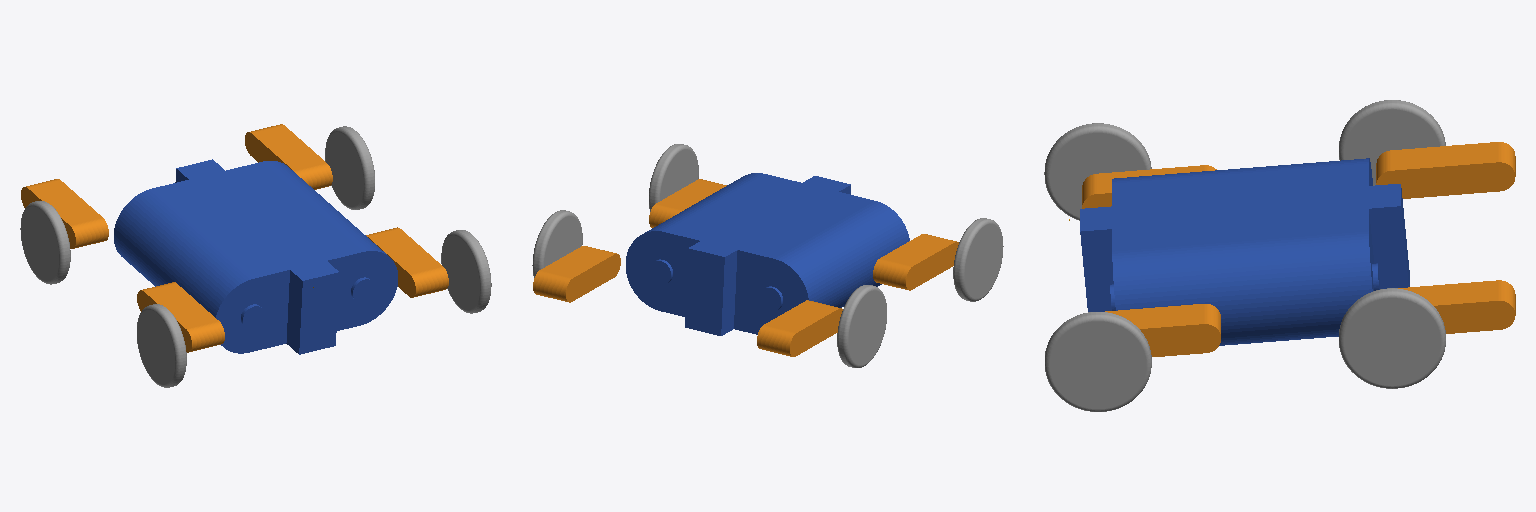
--- Facts derived from the render (not from the file) ---
The picture shows the robot from 3 angles, left to right: view 1: azimuth 30°, elevation 25°; view 2: azimuth 150°, elevation 25°; view 3: azimuth 270°, elevation 25°; orthographic projection.
Robot: wheely — 18 links, 17 joints (16 revolute, 1 fixed); root link base; default pose: every joint at zero.
Links seen in each view (by area): view 1: trunk, wheel_sim, wheel_sim_4, wheel_sim_2, wheel_sim_3, leg_upper_sim_3, leg_upper_sim_2, leg_upper_sim_4, leg_upper_sim; view 2: trunk, leg_upper_sim_3, wheel_sim, wheel_sim_4, leg_upper_sim, leg_upper_sim_4, wheel_sim_3, wheel_sim_2, leg_upper_sim_2; view 3: trunk, wheel_sim_3, wheel_sim_2, leg_upper_sim_4, wheel_sim, wheel_sim_4, leg_upper_sim_3, leg_upper_sim_2, leg_upper_sim.
Boxes of the visible links, x1=… form: trunk: x1=114, y1=159, x2=397, y2=354; wheel_sim: x1=137, y1=304, x2=186, y2=387; wheel_sim_4: x1=20, y1=201, x2=70, y2=284; wheel_sim_2: x1=441, y1=230, x2=491, y2=313; wheel_sim_3: x1=325, y1=126, x2=374, y2=209; leg_upper_sim_3: x1=245, y1=124, x2=332, y2=189; leg_upper_sim_2: x1=366, y1=227, x2=448, y2=297; leg_upper_sim_4: x1=21, y1=179, x2=108, y2=248; leg_upper_sim: x1=137, y1=282, x2=224, y2=352; trunk: x1=626, y1=173, x2=909, y2=335; leg_upper_sim_3: x1=533, y1=246, x2=620, y2=302; wheel_sim: x1=953, y1=218, x2=1003, y2=301; wheel_sim_4: x1=837, y1=285, x2=886, y2=367; leg_upper_sim: x1=873, y1=234, x2=958, y2=290; leg_upper_sim_4: x1=757, y1=300, x2=842, y2=356; wheel_sim_3: x1=532, y1=210, x2=582, y2=277; wheel_sim_2: x1=649, y1=144, x2=698, y2=211; leg_upper_sim_2: x1=649, y1=179, x2=726, y2=227; trunk: x1=1080, y1=158, x2=1409, y2=345; wheel_sim_3: x1=1339, y1=288, x2=1445, y2=388; wheel_sim_2: x1=1045, y1=312, x2=1151, y2=411; leg_upper_sim_4: x1=1376, y1=142, x2=1515, y2=198; wheel_sim: x1=1044, y1=123, x2=1151, y2=220; wheel_sim_4: x1=1339, y1=100, x2=1445, y2=185; leg_upper_sim_3: x1=1398, y1=280, x2=1515, y2=333; leg_upper_sim_2: x1=1105, y1=304, x2=1220, y2=356; leg_upper_sim: x1=1082, y1=165, x2=1216, y2=208.
Bounding box of the posed robot: 0.43 × 0.4386 × 0.1258 m (x, y, z).
Meshes: 5 distinct files referenced, 9 mesh visuals loaded (3 binary STL); not drawn: 8 (reference not matched to a file when rendering).

robot.urdf — wheely:
<?xml version="1.0" encoding="utf-8"?>
<robot name="wheely">
    <link name="base">
        <visual>
            <origin rpy="0 0 0" xyz="0 0 0" />
            <geometry>
                <box size="0.001 0.001 0.001" />
            </geometry>
        </visual>
    </link>
    <joint name="floating_base" type="fixed">
        <origin rpy="0 0 0" xyz="0 0 0" />
        <parent link="base" />
        <child link="trunk" />
    </joint>
    <link name="trunk">
        <visual>
            <origin xyz="0.015585846069522939911 0.16761721714529645433 -0.07967009481110459701"
                rpy="0.087266479572840227608 1.1592872166690008089e-09 -1.3250729495637539251e-08" />
            <geometry>
                <mesh filename="../meshes/V2.6/main_body_sim.stl" />
            </geometry>
            <material name="main_body_sim_material">
                <color rgba="0.2313725490196078538 0.38039215686274507888 0.7058823529411765163 1.0" />
            </material>
        </visual>
        <collision>
            <origin xyz="0.015585846069522939911 0.16761721714529645433 -0.07967009481110459701"
                rpy="0.087266479572840227608 1.1592872166690008089e-09 -1.3250729495637539251e-08" />
            <geometry>
                <mesh filename="../meshes/V2.6/main_body_sim.stl" />
            </geometry>
        </collision>
        <inertial>
            <origin xyz="0.015585846069522813276 0.16325942916248678549 -0.029860359980482562708"
                rpy="0 0 0" />
            <mass value="1.0520000000000002682" />
            <inertia ixx="0.0066139164607848287616" ixy="-1.7682651499246315317e-11"
                ixz="-1.5470365969232099219e-12" iyy="0.0053174843064010216681"
                iyz="-0.00043473230710836267745" izz="0.010248462186988568576" />
        </inertial>
    </link>

    <link name="hip_joint_sim">
        <visual>
            <origin xyz="0.032215611636638642745 0.028555101990604007944 -6.9388939039072283776e-18"
                rpy="1.570796326794896558 2.3580553164154395304e-26 -1.0052549661969301431e-25" />
            <geometry>
                <mesh filename="../meshes/V2.6/hip_joint_sim.stl" />
            </geometry>
            <material name="hip_joint_sim_material">
                <color
                    rgba="0.86666666666666669627 0.32156862745098041545 0.15686274509803921351 1.0" />
            </material>
        </visual>
        <collision>
            <origin xyz="0.032215611636638642745 0.028555101990604007944 -6.9388939039072283776e-18"
                rpy="1.570796326794896558 2.3580553164154395304e-26 -1.0052549661969301431e-25" />
            <geometry>
                <mesh filename="../meshes/V2.6/hip_joint_sim.stl" />
            </geometry>
        </collision>
        <inertial>
            <origin xyz="0.021525592503996222871 3.4694469519536141888e-18 -0.012500000000000009368"
                rpy="0 0 0" />
            <mass value="0.00899999999999999932" />
            <inertia ixx="1.1139804559497151344e-06" ixy="5.8086754015875530345e-31"
                ixz="2.6905705925099447311e-30" iyy="3.861958513835964132e-06"
                iyz="2.8514866875938409084e-23" izz="4.0384389697856785015e-06" />
        </inertial>
    </link>

    <link name="leg_upper_sim">
        <visual>
            <origin xyz="0 0 -0.045000000000000012212"
                rpy="-1.570796326794896558 -1.570796326794896558 0" />
            <geometry>
                <mesh filename="../meshes/V2.6/leg_upper_sim.stl" />
            </geometry>
            <material name="leg_upper_sim_material">
                <color
                    rgba="0.90980392156862743835 0.57254901960784310155 0.16470588235294117418 1.0" />
            </material>
        </visual>
        <collision>
            <origin xyz="0 0 -0.045000000000000012212"
                rpy="-1.570796326794896558 -1.570796326794896558 0" />
            <geometry>
                <mesh filename="../meshes/V2.6/leg_upper_sim.stl" />
            </geometry>
        </collision>
        <inertial>
            <origin
                xyz="6.4367397496827832073e-18 -0.049999999999999981959 -0.022500000000000006106"
                rpy="0 0 0" />
            <mass value="0.37599999999999994538" />
            <inertia ixx="0.00054596018323756516019" ixy="-3.6736756668987036021e-21"
                ixz="-9.895140610489742317e-30" iyy="9.0305640199817024754e-05"
                iyz="-1.3919049736874224704e-28" izz="0.00050936582343738242076" />
        </inertial>
    </link>

    <link name="leg_lower_sim">
        <visual>
            <origin xyz="0 0 -0.024999999999999994449"
                rpy="-1.570796326794896558 -1.570796326794896558 0" />
            <geometry>
                <mesh filename="../meshes/V2.6/leg_lower_sim.stl" />
            </geometry>
            <material name="leg_lower_sim_material">
                <color rgba="1 0.7568627450980391913 0.054901960784313724728 1.0" />
            </material>
        </visual>
        <collision>
            <origin xyz="0 0 -0.024999999999999994449"
                rpy="-1.570796326794896558 -1.570796326794896558 0" />
            <geometry>
                <mesh filename="../meshes/V2.6/leg_lower_sim.stl" />
            </geometry>
        </collision>
        <inertial>
            <origin
                xyz="5.9848756682538206176e-18 -0.061136909622975937895 -0.012499999999999993755"
                rpy="0 0 0" />
            <mass value="0.058000000000000002942" />
            <inertia ixx="9.3657217382847509626e-05" ixy="-2.3857696540800339933e-22"
                ixz="1.7136927500804865691e-29" iyy="9.3296789238021381879e-06"
                iyz="-1.3665651456574403711e-28" izz="9.6945229639982987888e-05" />
        </inertial>
    </link>

    <link name="wheel_sim">
        <visual>
            <origin xyz="-0.087087206542491912842 -0.027046862989664081228 -0.014999999999999985567"
                rpy="-1.570796326794896558 -1.570796326794896558 0" />
            <geometry>
                <mesh filename="../meshes/V2.6/wheel_sim.stl" />
            </geometry>
            <material name="wheel_sim_material">
                <color
                    rgba="0.64705882352941179736 0.64705882352941179736 0.64705882352941179736 1.0" />
            </material>
        </visual>
        <collision>
            <origin xyz="-0.087087206542491912842 -0.027046862989664081228 -0.014999999999999985567"
                rpy="-1.570796326794896558 -1.570796326794896558 0" />
            <geometry>
                <mesh filename="../meshes/V2.6/wheel_sim.stl" />
            </geometry>
        </collision>
        <inertial>
            <origin
                xyz="4.810479871505592532e-20 -6.9388939039072283776e-18 -0.007499999999999986712"
                rpy="0 0 0" />
            <mass value="0.036999999999999998168" />
            <inertia ixx="2.3186407739588025368e-05" ixy="-4.9807254351802205666e-22"
                ixz="1.3053572872479977881e-30" iyy="2.3186407739588028756e-05"
                iyz="4.6132351399898749104e-29" izz="4.5033754578493196004e-05" />
        </inertial>
    </link>

    <joint name="FRW joint" type="revolute">
        <origin xyz="1.3877787807814456755e-17 -0.10000000000000000555 -0.024999999999999994449"
            rpy="8.9722478517019562056e-17 5.550869771051672925e-16 -8.6243853566089590395e-14" />
        <parent link="leg_lower_sim" />
        <child link="wheel_sim" />
        <axis xyz="0 0 1" />
        <limit effort="3.43" velocity="1.5707" />
        <joint_properties friction="0.0" />
    </joint>

    <joint name="FRK joint" type="revolute">
        <origin xyz="1.3877787807814456755e-17 -0.099999999999999977796 -0.045000000000000039968"
            rpy="-2.995620619665353311e-16 -2.0409029304008913286e-16 -3.141592653589793116" />
        <parent link="leg_upper_sim" />
        <child link="leg_lower_sim" />
        <axis xyz="0 0 1" />
        <limit effort="6.864655" velocity="8.055365759832842" lower="0" upper="3.141592653589793116" />
        <joint_properties friction="0.0" />
    </joint>

    <joint name="FRHL joint" type="revolute">
        <origin xyz="0.0549999999999999864 6.9388939039072283776e-18 -0.012500000000000004163"
            rpy="-1.570796326794896558 -1.697312512551477413e-08 1.570796326794896336" />
        <parent link="hip_joint_sim" />
        <child link="leg_upper_sim" />
        <axis xyz="0 0 1" />
        <limit effort="6.864655" velocity="8.055365759832842" lower="-3.141592653589793116" upper="0" />
        <joint_properties friction="0.0" />
    </joint>

    <joint name="FRHU joint" type="revolute">
        <origin xyz="-0.059414155593145313861 0.038735093079736430954 -0.04075482985056028129"
            rpy="1.4835298472220554977 -1.1592875220980075015e-09 3.1415926403390637134" />
        <parent link="trunk" />
        <child link="hip_joint_sim" />
        <axis xyz="0 0 1" />
        <limit effort="6.864655" velocity="8.055365759832842" lower="-0.75" upper="0.75" />
        <joint_properties friction="0.0" />
    </joint>

    <link name="hip_joint_sim_2">
        <visual>
            <origin xyz="0.032215611636638621929 0.028555101990604007944 0"
                rpy="1.570796326794896558 -1.484709704491313476e-25 5.3370996820186301382e-26" />
            <geometry>
                <mesh filename="../meshes/V2.6/hip_joint_sim.stl" />
            </geometry>
            <material name="hip_joint_sim_material">
                <color
                    rgba="0.86666666666666669627 0.32156862745098041545 0.15686274509803921351 1.0" />
            </material>
        </visual>
        <collision>
            <origin xyz="0.032215611636638621929 0.028555101990604007944 0"
                rpy="1.570796326794896558 -1.484709704491313476e-25 5.3370996820186301382e-26" />
            <geometry>
                <mesh filename="../meshes/V2.6/hip_joint_sim.stl" />
            </geometry>
        </collision>
        <inertial>
            <origin xyz="0.021525592503996202054 3.4694469519536141888e-18 -0.012500000000000002429"
                rpy="0 0 0" />
            <mass value="0.00899999999999999932" />
            <inertia ixx="1.1139804559497151344e-06" ixy="5.4133580507221509624e-31"
                ixz="-7.9473900997021163377e-30" iyy="3.861958513835964132e-06"
                iyz="-1.2202827403417080041e-22" izz="4.0384389697856785015e-06" />
        </inertial>
    </link>

    <link name="leg_upper_sim_2">
        <visual>
            <origin
                xyz="-6.9388939039072283776e-18 -3.4694469519536141888e-18 2.7755575615628913511e-17"
                rpy="1.570796326794896558 1.570796326794896558 0" />
            <geometry>
                <mesh filename="../meshes/V2.6/leg_upper_sim.stl" />
            </geometry>
            <material name="leg_upper_sim_material">
                <color
                    rgba="0.90980392156862743835 0.57254901960784310155 0.16470588235294117418 1.0" />
            </material>
        </visual>
        <collision>
            <origin
                xyz="-6.9388939039072283776e-18 -3.4694469519536141888e-18 2.7755575615628913511e-17"
                rpy="1.570796326794896558 1.570796326794896558 0" />
            <geometry>
                <mesh filename="../meshes/V2.6/leg_upper_sim.stl" />
            </geometry>
        </collision>
        <inertial>
            <origin
                xyz="-1.9401965933927449679e-18 0.049999999999999988898 -0.022499999999999978351"
                rpy="0 0 0" />
            <mass value="0.37599999999999994538" />
            <inertia ixx="0.00054596018323756537703" ixy="6.7350947315973346165e-21"
                ixz="-6.7906181757271827491e-29" iyy="9.0305640199817051859e-05"
                iyz="8.072925128848165996e-29" izz="0.00050936582343738242076" />
        </inertial>
    </link>

    <link name="leg_lower_sim_2">
        <visual>
            <origin xyz="-6.9388939039072283776e-18 0 0"
                rpy="1.570796326794896558 1.570796326794896558 0" />
            <geometry>
                <mesh filename="../meshes/V2.6/leg_lower_sim.stl" />
            </geometry>
            <material name="leg_lower_sim_material">
                <color rgba="1 0.7568627450980391913 0.054901960784313724728 1.0" />
            </material>
        </visual>
        <collision>
            <origin xyz="-6.9388939039072283776e-18 0 0"
                rpy="1.570796326794896558 1.570796326794896558 0" />
            <geometry>
                <mesh filename="../meshes/V2.6/leg_lower_sim.stl" />
            </geometry>
        </collision>
        <inertial>
            <origin
                xyz="-1.7803056235582124656e-18 0.061136909622975944834 -0.012500000000000002429"
                rpy="0 0 0" />
            <mass value="0.058000000000000002942" />
            <inertia ixx="9.3657217382847482521e-05" ixy="4.4236941077579196848e-22"
                ixz="2.2380568678833325027e-29" iyy="9.3296789238021415761e-06"
                iyz="-1.9072833451762093138e-29" izz="9.6945229639982987888e-05" />
        </inertial>
    </link>

    <link name="wheel_sim_2">
        <visual>
            <origin xyz="-0.08708720654249192672 0.027046862989664098575 0"
                rpy="1.570796326794896558 1.570796326794896558 0" />
            <geometry>
                <mesh filename="../meshes/V2.6/wheel_sim.stl" />
            </geometry>
            <material name="wheel_sim_material">
                <color
                    rgba="0.64705882352941179736 0.64705882352941179736 0.64705882352941179736 1.0" />
            </material>
        </visual>
        <collision>
            <origin xyz="-0.08708720654249192672 0.027046862989664098575 0"
                rpy="1.570796326794896558 1.570796326794896558 0" />
            <geometry>
                <mesh filename="../meshes/V2.6/wheel_sim.stl" />
            </geometry>
        </collision>
        <inertial>
            <origin
                xyz="-1.0689147558701540743e-17 1.3877787807814456755e-17 -0.0074999999999999997224"
                rpy="0 0 0" />
            <mass value="0.036999999999999998168" />
            <inertia ixx="2.3186407739588025368e-05" ixy="-2.7208900002988070909e-21"
                ixz="1.3289645786860947498e-28" iyy="2.3186407739588042309e-05"
                iyz="-2.0013011379139741406e-29" izz="4.5033754578493196004e-05" />
        </inertial>
    </link>

    <joint name="FLW joint" type="revolute">
        <origin xyz="-6.9388939039072283776e-18 0.10000000000000001943 -0.024999999999999994449"
            rpy="-3.9217056321313390979e-24 1.7840755803579285885e-25 -2.2191733635898245325" />
        <parent link="leg_lower_sim_2" />
        <child link="wheel_sim_2" />
        <axis xyz="0 0 1" />
        <limit effort="3.43" velocity="1.5707" />
        <joint_properties friction="0.0" />
    </joint>

    <joint name="FLK joint" type="revolute">
        <origin xyz="0 0.10000000000000003331 -0.044999999999999984457"
            rpy="1.387778657130056109e-17 1.7719557842967524199e-25 -3.141592653589793116" />
        <parent link="leg_upper_sim_2" />
        <child link="leg_lower_sim_2" />
        <axis xyz="0 0 1" />
        <limit effort="6.864655" velocity="8.055365759832842" lower="-3.141592653589793116" upper="0" />
        <joint_properties friction="0.0" />
    </joint>

    <joint name="FLHL joint" type="revolute">
        <origin xyz="0.054999999999999965583 0 -0.012500000000000004163"
            rpy="1.570796326794896558 -1.697312505683743872e-08 -1.57079632679489678" />
        <parent link="hip_joint_sim_2" />
        <child link="leg_upper_sim_2" />
        <axis xyz="0 0 1" />
        <limit effort="6.864655" velocity="8.055365759832842" lower="0" upper="3.141592653589793116" />
        <joint_properties friction="0.0" />
    </joint>

    <joint name="FLHU joint" type="revolute">
        <origin xyz="0.090585844406854687527 0.03873509109212703444 -0.040754830024453361781"
            rpy="-1.4835298472220557198 1.1592868182687392415e-09 -1.325072960991922284e-08" />
        <parent link="trunk" />
        <child link="hip_joint_sim_2" />
        <axis xyz="0 0 1" />
        <limit effort="6.864655" velocity="8.055365759832842" lower="-0.75" upper="0.75" />
        <joint_properties friction="0.0" />
    </joint>

    <link name="hip_joint_sim_3">
        <visual>
            <origin xyz="0.032215611636638621929 -0.028555101990604007944 -0.025000000000000022204"
                rpy="-1.570796326794896558 6.7192618071082185633e-25 -1.0295883003064848013e-25" />
            <geometry>
                <mesh filename="../meshes/V2.6/hip_joint_sim.stl" />
            </geometry>
            <material name="hip_joint_sim_material">
                <color
                    rgba="0.86666666666666669627 0.32156862745098041545 0.15686274509803921351 1.0" />
            </material>
        </visual>
        <collision>
            <origin xyz="0.032215611636638621929 -0.028555101990604007944 -0.025000000000000022204"
                rpy="-1.570796326794896558 6.7192618071082185633e-25 -1.0295883003064848013e-25" />
            <geometry>
                <mesh filename="../meshes/V2.6/hip_joint_sim.stl" />
            </geometry>
        </collision>
        <inertial>
            <origin
                xyz="0.021525592503996202054 -3.4694469519536141888e-18 -0.012500000000000019776"
                rpy="0 0 0" />
            <mass value="0.00899999999999999932" />
            <inertia ixx="1.1139804559497151344e-06" ixy="9.0059698357691907943e-31"
                ixz="4.9036820056156890493e-30" iyy="3.861958513835964132e-06"
                iyz="3.3881593816857189275e-23" izz="4.0384389697856785015e-06" />
        </inertial>
    </link>

    <link name="leg_upper_sim_3">
        <visual>
            <origin xyz="0 -5.5511151231257827021e-17 -2.7755575615628913511e-17"
                rpy="1.570796326794896558 1.570796326794896558 0" />
            <geometry>
                <mesh filename="../meshes/V2.6/leg_upper_sim.stl" />
            </geometry>
            <material name="leg_upper_sim_material">
                <color
                    rgba="0.90980392156862743835 0.57254901960784310155 0.16470588235294117418 1.0" />
            </material>
        </visual>
        <collision>
            <origin xyz="0 -5.5511151231257827021e-17 -2.7755575615628913511e-17"
                rpy="1.570796326794896558 1.570796326794896558 0" />
            <geometry>
                <mesh filename="../meshes/V2.6/leg_upper_sim.stl" />
            </geometry>
        </collision>
        <inertial>
            <origin xyz="5.9004051887530249307e-18 0.049999999999999926448 -0.022500000000000033862"
                rpy="0 0 0" />
            <mass value="0.37599999999999994538" />
            <inertia ixx="0.00054596018323756559387" ixy="4.2907247969289986257e-21"
                ixz="3.3275346616842551713e-29" iyy="9.0305640199817024754e-05"
                iyz="9.1967548615632482885e-29" izz="0.00050936582343738242076" />
        </inertial>
    </link>

    <link name="leg_lower_sim_3">
        <visual>
            <origin xyz="0 5.5511151231257827021e-17 0"
                rpy="1.570796326794896558 1.570796326794896558 0" />
            <geometry>
                <mesh filename="../meshes/V2.6/leg_lower_sim.stl" />
            </geometry>
            <material name="leg_lower_sim_material">
                <color rgba="1 0.7568627450980391913 0.054901960784313724728 1.0" />
            </material>
        </visual>
        <collision>
            <origin xyz="0 5.5511151231257827021e-17 0"
                rpy="1.570796326794896558 1.570796326794896558 0" />
            <geometry>
                <mesh filename="../meshes/V2.6/leg_lower_sim.stl" />
            </geometry>
        </collision>
        <inertial>
            <origin xyz="5.0787577489372815897e-18 0.061136909622976000345 -0.012500000000000002429"
                rpy="0 0 0" />
            <mass value="0.058000000000000002942" />
            <inertia ixx="9.3657217382847509626e-05" ixy="-1.0566982703049037534e-21"
                ixz="5.1436861051250829201e-30" iyy="9.3296789238021415761e-06"
                iyz="-3.9866687957020066922e-29" izz="9.6945229639982987888e-05" />
        </inertial>
    </link>

    <link name="wheel_sim_3">
        <visual>
            <origin xyz="-0.087087206542491898964 0.027046862989664022248 2.7755575615628913511e-17"
                rpy="1.570796326794896558 1.570796326794896558 0" />
            <geometry>
                <mesh filename="../meshes/V2.6/wheel_sim.stl" />
            </geometry>
            <material name="wheel_sim_material">
                <color
                    rgba="0.64705882352941179736 0.64705882352941179736 0.64705882352941179736 1.0" />
            </material>
        </visual>
        <collision>
            <origin xyz="-0.087087206542491898964 0.027046862989664022248 2.7755575615628913511e-17"
                rpy="1.570796326794896558 1.570796326794896558 0" />
            <geometry>
                <mesh filename="../meshes/V2.6/wheel_sim.stl" />
            </geometry>
        </collision>
        <inertial>
            <origin
                xyz="1.3877787807814456755e-17 -5.5511151231257827021e-17 -0.0074999999999999719669"
                rpy="0 0 0" />
            <mass value="0.036999999999999998168" />
            <inertia ixx="2.3186407739588025368e-05" ixy="0" ixz="0" iyy="2.3186407739588028756e-05"
                iyz="3.1948813329757786388e-29" izz="4.5033754578493196004e-05" />
        </inertial>
    </link>

    <joint name="BLW joint" type="revolute">
        <origin xyz="0 0.10000000000000003331 -0.024999999999999994449"
            rpy="-1.4162014954362229083e-24 -0 -3.0543261909901313622" />
        <parent link="leg_lower_sim_3" />
        <child link="wheel_sim_3" />
        <axis xyz="0 0 1" />
        <limit effort="3.43" velocity="1.5707" />
        <joint_properties friction="0.0" />
    </joint>

    <joint name="BLK joint" type="revolute">
        <origin xyz="1.3877787807814456755e-17 0.099999999999999922284 -0.045000000000000012212"
            rpy="9.4730836872721032061e-24 5.0888239931834112832e-25 -3.141592653589793116" />
        <parent link="leg_upper_sim_3" />
        <child link="leg_lower_sim_3" />
        <axis xyz="0 0 1" />
        <limit effort="6.864655" velocity="8.055365759832842" lower="-3.141592653589793116" upper="0" />
        <joint_properties friction="0.0" />
    </joint>

    <joint name="BLHL joint" type="revolute">
        <origin xyz="0.055000000000000007216 -6.9388939039072283776e-18 -0.012500000000000066613"
            rpy="-1.570796326794896558 1.6973125989423479739e-08 1.57079632679489678" />
        <parent link="hip_joint_sim_3" />
        <child link="leg_upper_sim_3" />
        <axis xyz="0 0 1" />
        <limit effort="6.864655" velocity="8.055365759832842" lower="0" upper="3.141592653589793116" />
        <joint_properties friction="0.0" />
    </joint>

    <joint name="BLHU joint" type="revolute">
        <origin xyz="0.090585847732190916126 0.28778376524523707758 -0.018965890110404851066"
            rpy="1.6580628063677349537 1.159286201457635821e-09 -1.3250729804689327159e-08" />
        <parent link="trunk" />
        <child link="hip_joint_sim_3" />
        <axis xyz="0 0 1" />
        <limit effort="6.864655" velocity="8.055365759832842" lower="-0.75" upper="0.75" />
        <joint_properties friction="0.0" />
    </joint>

    <link name="hip_joint_sim_4">
        <visual>
            <origin xyz="0.032215611636638649684 -0.028555101990603997536 -0.025000000000000077716"
                rpy="-1.570796326794896558 -1.9820561291419447928e-24 1.9562839624616232788e-24" />
            <geometry>
                <mesh filename="../meshes/V2.6/hip_joint_sim.stl" />
            </geometry>
            <material name="hip_joint_sim_material">
                <color
                    rgba="0.86666666666666669627 0.32156862745098041545 0.15686274509803921351 1.0" />
            </material>
        </visual>
        <collision>
            <origin xyz="0.032215611636638649684 -0.028555101990603997536 -0.025000000000000077716"
                rpy="-1.570796326794896558 -1.9820561291419447928e-24 1.9562839624616232788e-24" />
            <geometry>
                <mesh filename="../meshes/V2.6/hip_joint_sim.stl" />
            </geometry>
        </collision>
        <inertial>
            <origin xyz="0.02152559250399622981 6.9388939039072283776e-18 -0.012500000000000075287"
                rpy="0 0 0" />
            <mass value="0.00899999999999999932" />
            <inertia ixx="1.1139804559497151344e-06" ixy="4.1772076549073753771e-31"
                ixz="-6.1343050970541535851e-30" iyy="3.861958513835964132e-06"
                iyz="-6.3994577933147648704e-23" izz="4.0384389697856785015e-06" />
        </inertial>
    </link>

    <link name="leg_upper_sim_4">
        <visual>
            <origin xyz="0 0 -0.045000000000000012212"
                rpy="-1.570796326794896558 -1.570796326794896558 0" />
            <geometry>
                <mesh filename="../meshes/V2.6/leg_upper_sim.stl" />
            </geometry>
            <material name="leg_upper_sim_material">
                <color
                    rgba="0.90980392156862743835 0.57254901960784310155 0.16470588235294117418 1.0" />
            </material>
        </visual>
        <collision>
            <origin xyz="0 0 -0.045000000000000012212"
                rpy="-1.570796326794896558 -1.570796326794896558 0" />
            <geometry>
                <mesh filename="../meshes/V2.6/leg_upper_sim.stl" />
            </geometry>
        </collision>
        <inertial>
            <origin
                xyz="5.1882295258215660955e-18 -0.049999999999999988898 -0.022500000000000009576"
                rpy="0 0 0" />
            <mass value="0.37599999999999994538" />
            <inertia ixx="0.00054596018323756537703" ixy="1.3556944700226467858e-21"
                ixz="-1.3488944768734479029e-27" iyy="9.0305640199817051859e-05"
                iyz="1.0933884475067676071e-27" izz="0.00050936582343738220392" />
        </inertial>
    </link>

    <link name="leg_lower_sim_4">
        <visual>
            <origin
                xyz="6.9388939039072283776e-18 5.5511151231257827021e-17 -0.024999999999999994449"
                rpy="-1.570796326794896558 -1.570796326794896558 0" />
            <geometry>
                <mesh filename="../meshes/V2.6/leg_lower_sim.stl" />
            </geometry>
            <material name="leg_lower_sim_material">
                <color rgba="1 0.7568627450980391913 0.054901960784313724728 1.0" />
            </material>
        </visual>
        <collision>
            <origin
                xyz="6.9388939039072283776e-18 5.5511151231257827021e-17 -0.024999999999999994449"
                rpy="-1.570796326794896558 -1.570796326794896558 0" />
            <geometry>
                <mesh filename="../meshes/V2.6/leg_lower_sim.stl" />
            </geometry>
        </collision>
        <inertial>
            <origin xyz="1.0859552386685261313e-17 -0.0611369096229759032 -0.012499999999999993755"
                rpy="0 0 0" />
            <mass value="0.058000000000000002942" />
            <inertia ixx="9.3657217382847509626e-05" ixy="1.6253604756349434722e-21"
                ixz="2.7240064655656153407e-31" iyy="9.3296789238021449642e-06"
                iyz="-1.4839605034452385574e-28" izz="9.6945229639982960783e-05" />
        </inertial>
    </link>

    <link name="wheel_sim_4">
        <visual>
            <origin xyz="-0.087087206542491940597 -0.027046862989664077759 -0.014999999999999957812"
                rpy="-1.570796326794896558 -1.570796326794896558 0" />
            <geometry>
                <mesh filename="../meshes/V2.6/wheel_sim.stl" />
            </geometry>
            <material name="wheel_sim_material">
                <color
                    rgba="0.64705882352941179736 0.64705882352941179736 0.64705882352941179736 1.0" />
            </material>
        </visual>
        <collision>
            <origin xyz="-0.087087206542491940597 -0.027046862989664077759 -0.014999999999999957812"
                rpy="-1.570796326794896558 -1.570796326794896558 0" />
            <geometry>
                <mesh filename="../meshes/V2.6/wheel_sim.stl" />
            </geometry>
        </collision>
        <inertial>
            <origin xyz="-2.8047465406184179424e-17 0 -0.0074999999999999580891" rpy="0 0 0" />
            <mass value="0.036999999999999998168" />
            <inertia ixx="2.3186407739588025368e-05" ixy="-2.4661637863477947957e-22"
                ixz="2.5895774586331946966e-29" iyy="2.3186407739588028756e-05"
                iyz="3.0706605826852009233e-28" izz="4.5033754578493196004e-05" />
        </inertial>
    </link>

    <joint name="BRW joint" type="revolute">
        <origin xyz="6.9388939039072283776e-18 -0.10000000000000003331 -0.024999999999999994449"
            rpy="-4.6448383265960407329e-18 -7.1059407146169704959e-18 1.5707960522858872565" />
        <parent link="leg_lower_sim_4" />
        <child link="wheel_sim_4" />
        <axis xyz="0 0 1" />
        <limit effort="3.43" velocity="1.5707" />
        <joint_properties friction="0.0" />
    </joint>

    <joint name="BRK joint" type="revolute">
        <origin xyz="1.3877787807814456755e-17 -0.099999999999999977796 -0.045000000000000012212"
            rpy="-1.7440140067706183909e-24 -9.5749145050251897213e-24 -3.141592653589793116" />
        <parent link="leg_upper_sim_4" />
        <child link="leg_lower_sim_4" />
        <axis xyz="0 0 1" />
        <limit effort="6.864655" velocity="8.055365759832842" lower="0" upper="3.141592653589793116" />
        <joint_properties friction="0.0" />
    </joint>

    <joint name="BRHL joint" type="revolute">
        <origin xyz="0.054999999999999993339 0 -0.012500000000000066613"
            rpy="1.570796326794896558 7.007595260149741668e-09 -1.570796326794896558" />
        <parent link="hip_joint_sim_4" />
        <child link="leg_upper_sim_4" />
        <axis xyz="0 0 1" />
        <limit effort="6.864655" velocity="8.055365759832842" lower="-3.141592653589793116" upper="0" />
        <joint_properties friction="0.0" />
    </joint>

    <joint name="BRHU joint" type="revolute">
        <origin xyz="-0.059414152267808856278 0.28778376723284659899 -0.018965889936511763636"
            rpy="-1.6580628063677369521 -2.1430954532537406336e-08 3.1415926421126050272" />
        <parent link="trunk" />
        <child link="hip_joint_sim_4" />
        <axis xyz="0 0 1" />
        <limit effort="6.864655" velocity="8.055365759832842" lower="-0.75" upper="0.75" />
        <joint_properties friction="0.0" />
    </joint>


</robot>
